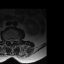CCS_normal: (10, 37, 12, 46)
LFS_stenosis: (14, 37, 16, 42)
LLS_normal: (12, 37, 14, 43)
RFS_stenosis: (6, 37, 9, 42)
RLS_normal: (8, 37, 11, 43)
